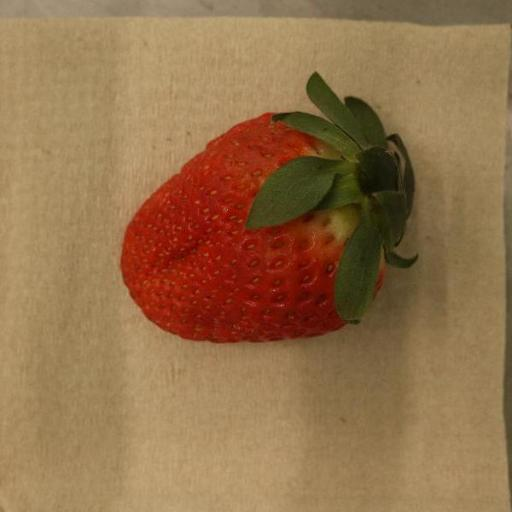Strawberry: (119, 73, 418, 344)
